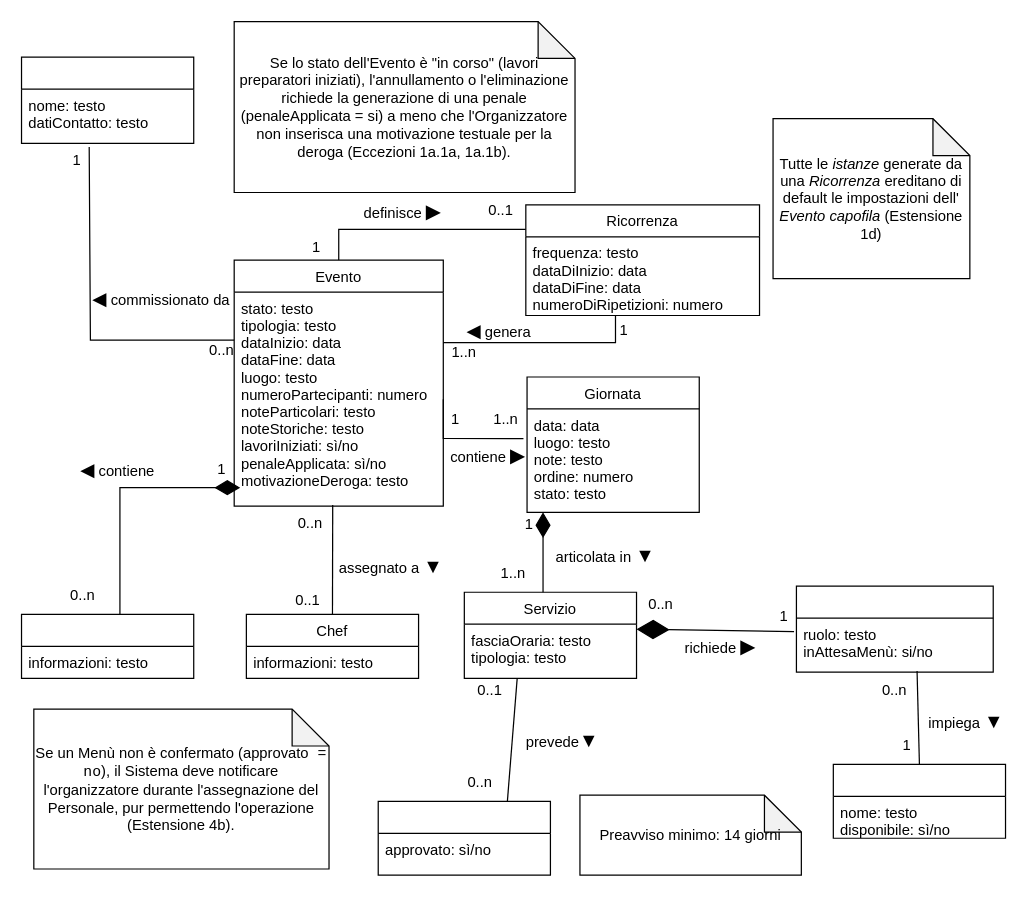
The diagram is 1030 pixels wide and 900 high, and some of its shapes have lost their labels. Each missing label, with the box of its shape:
Assegnamento Personale: (795, 585, 993, 672)
Cliente: (20, 56, 194, 143)
Documentazione: (20, 613, 194, 678)
Membro Personale: (832, 763, 1006, 838)
Menù: (377, 800, 550, 875)
